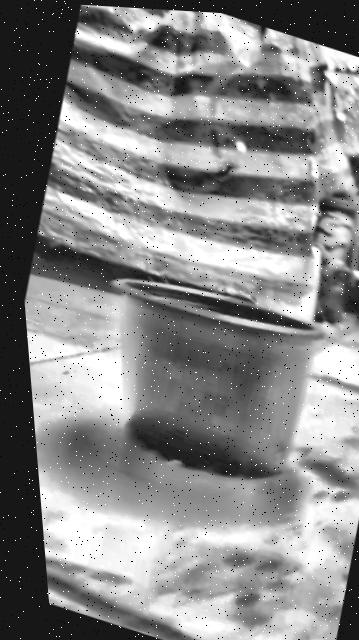pot: (71, 254, 343, 503)
